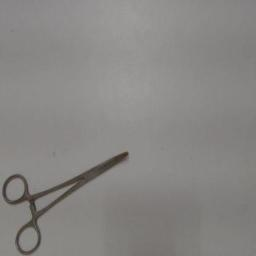Crile Artery Forceps: (2, 146, 134, 256)
